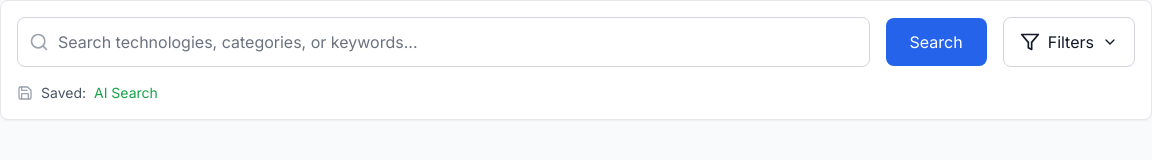
Scenario: AdvancedSearch › loads saved search when clicked
Step 1. Click the button "AI Search" → (126, 93), box [94, 83, 158, 103]
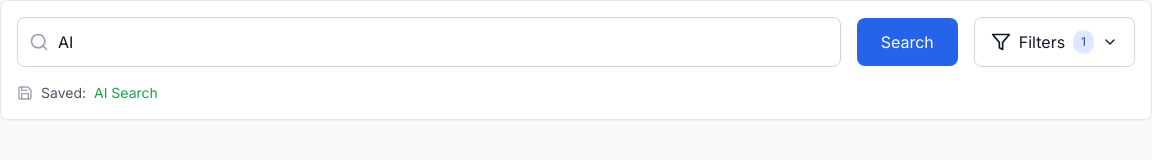
Check: the field with placeholder "Search technologies, categories, or keywords..." holds "AI", box [17, 17, 841, 67]
